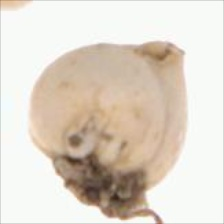L3: (136, 39, 187, 78)
L4: (28, 41, 187, 218)
